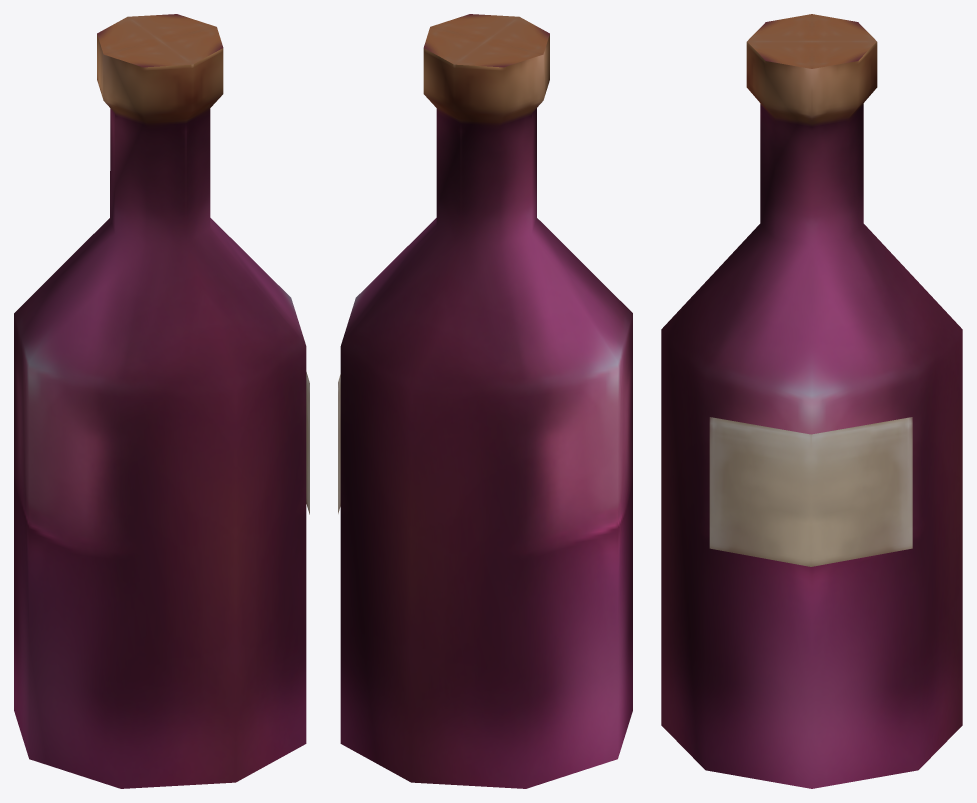
Rendered from JiuPing01.FBX.
3 renders of one model, left to right at view 1: azimuth 30°, elevation 25°; view 2: azimuth 150°, elevation 25°; view 3: azimuth 270°, elevation 25°, orthographic.
Visible parts, largest first — view 1: JiuPing01; view 2: JiuPing01; view 3: JiuPing01.
Part boxes in pixels (left/top/right/bottom): JiuPing01: left=14, top=14, right=309, bottom=788; JiuPing01: left=338, top=14, right=632, bottom=788; JiuPing01: left=661, top=14, right=962, bottom=788.
Size of the model in its own units: 10.9 by 26.83 by 10.72.
